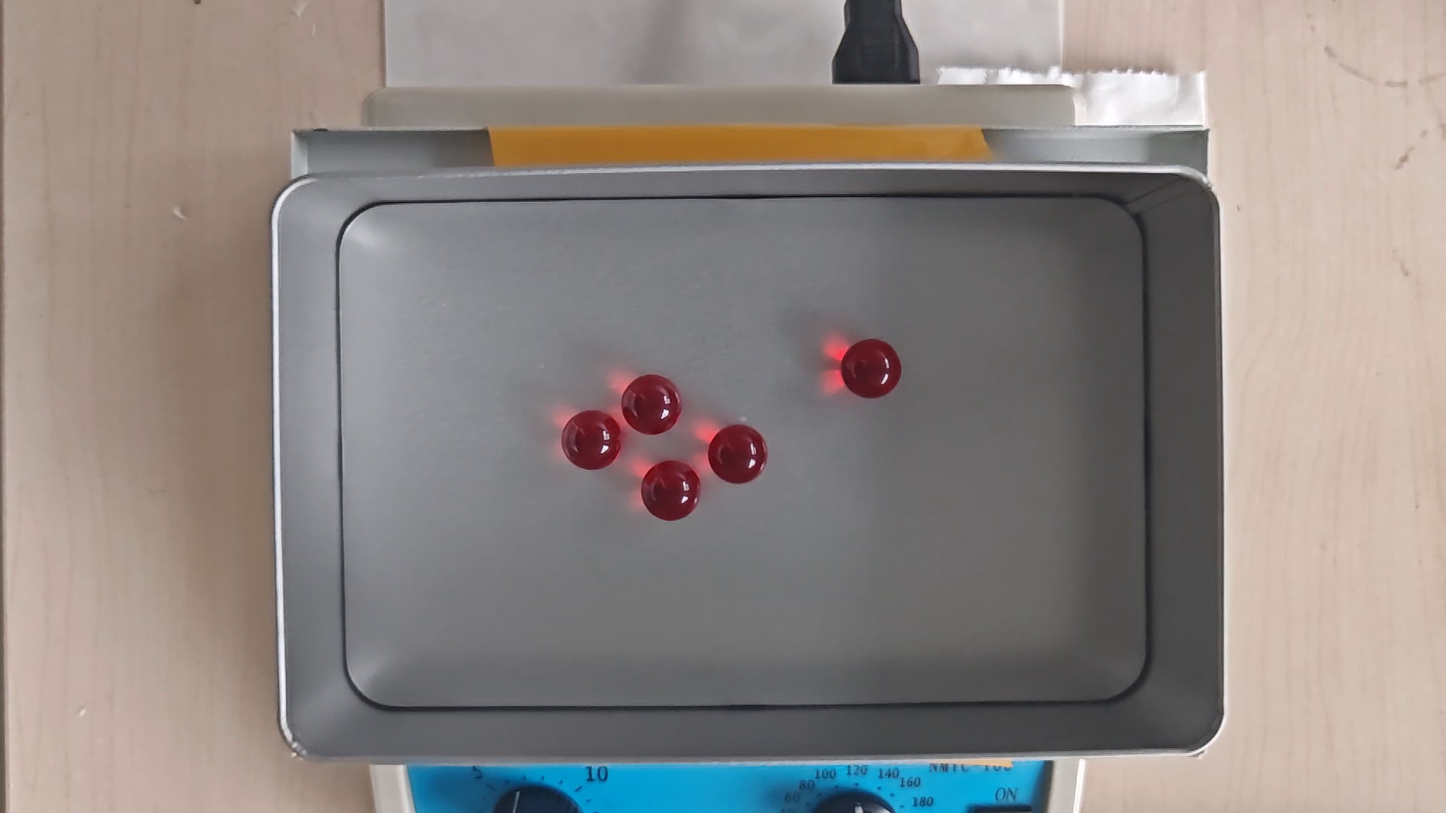ball: (560, 410, 622, 474), (708, 425, 769, 486), (842, 338, 901, 400), (643, 459, 700, 522), (624, 375, 681, 437)
container: (340, 196, 1147, 707)
